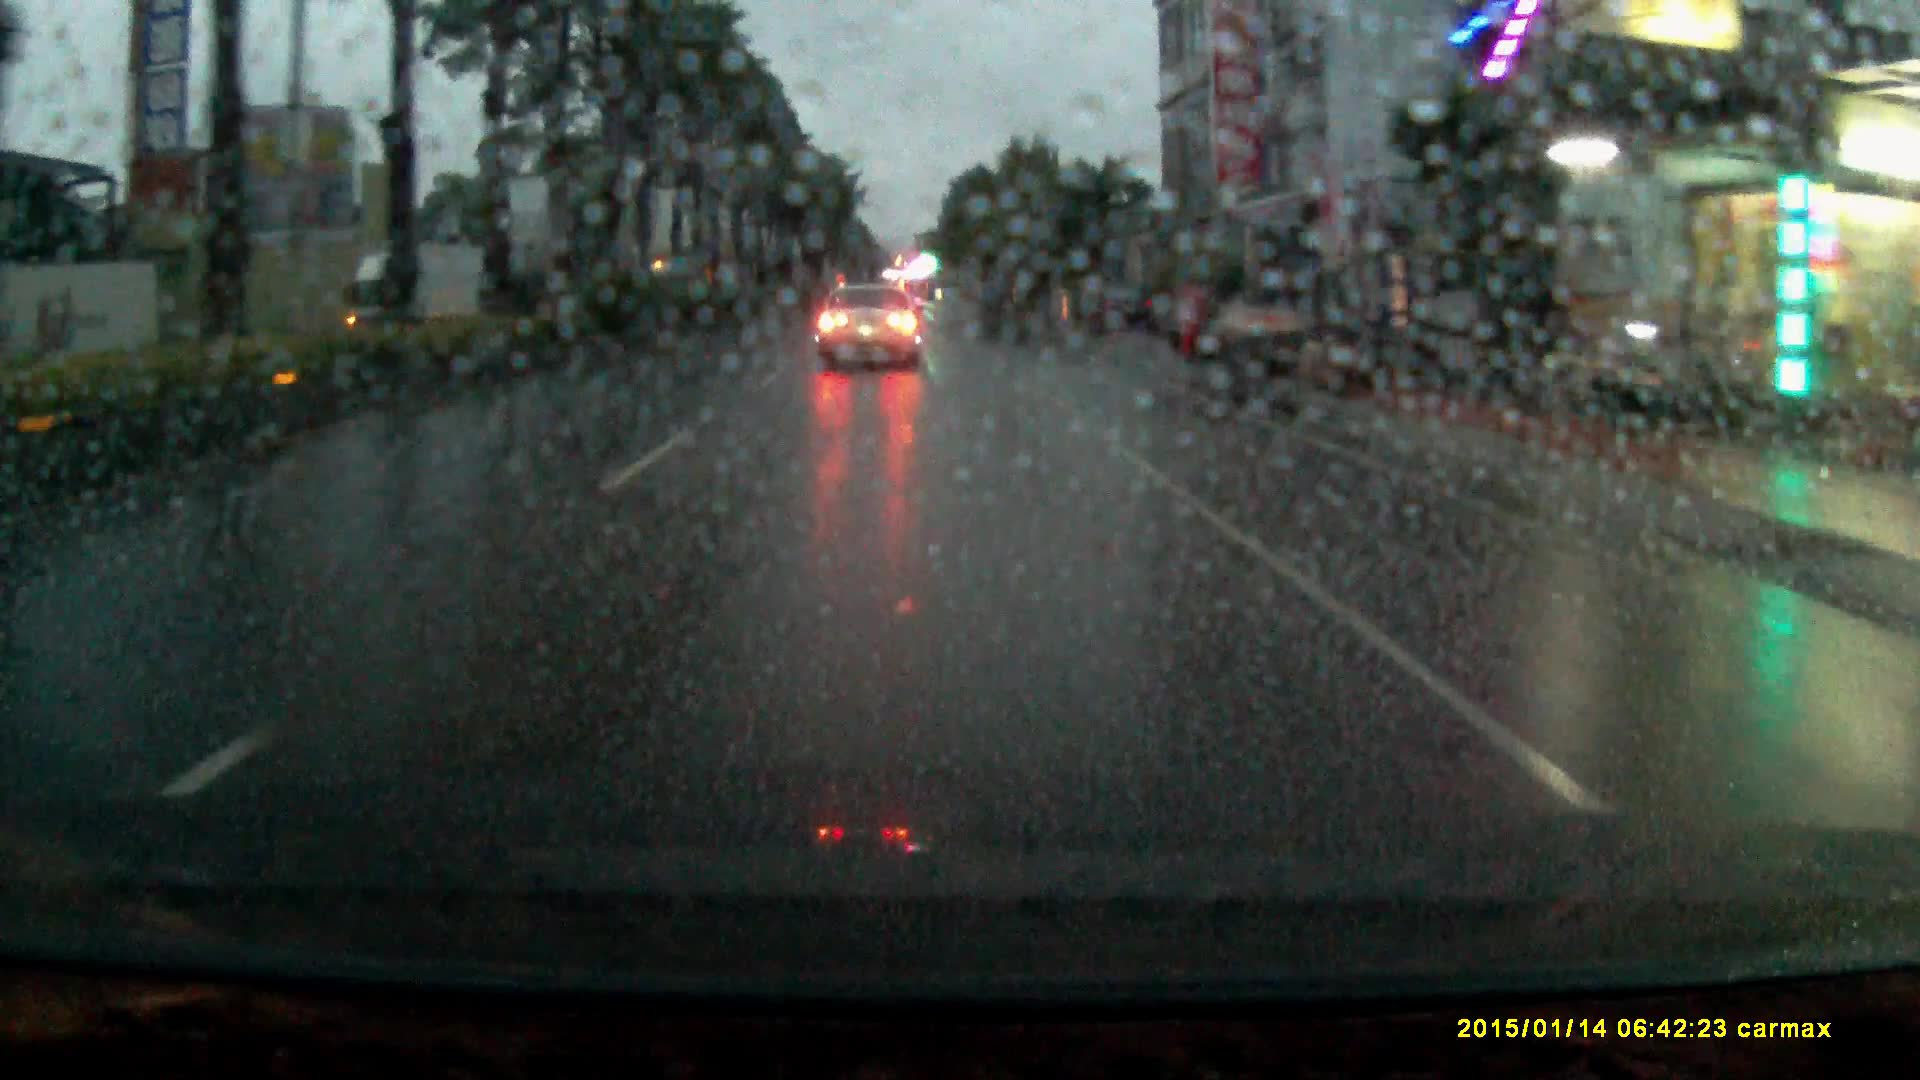vehicle: (338, 244, 487, 326), (818, 284, 920, 377), (1077, 285, 1156, 338)
